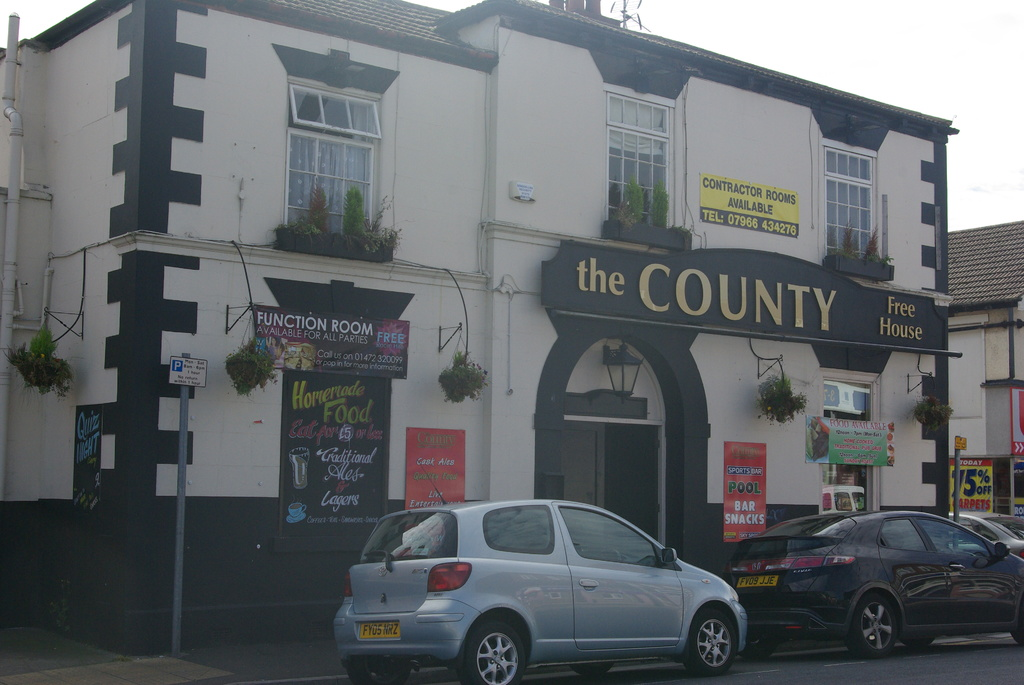mobil: (334, 499, 756, 685), (745, 508, 1024, 675)
